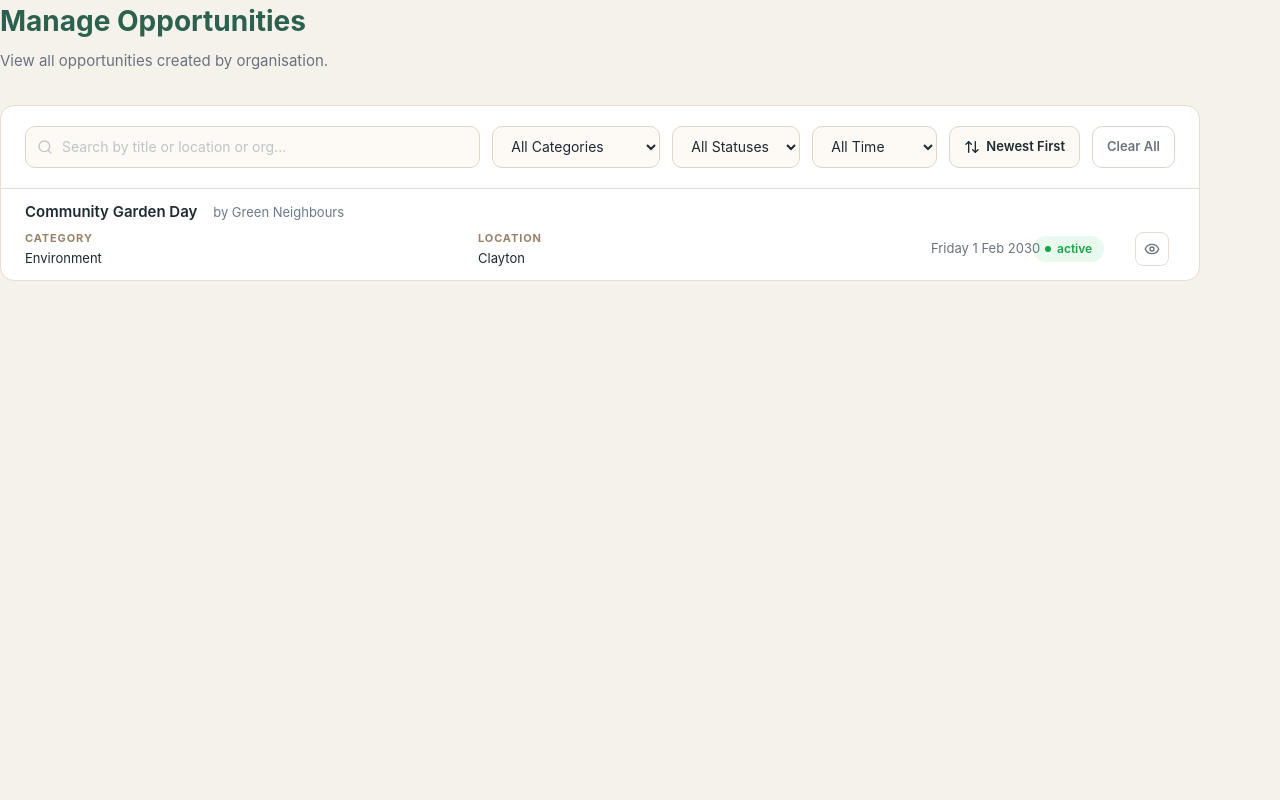
Test case: Admin management UI › lists and previews opportunities without exposing edit actions
Expected: the heading "Community Garden Day by Green Neighbours" is shown, [25, 202, 344, 220]
Click the button named "Preview opportunity" at (1152, 248), box [1135, 232, 1169, 266]
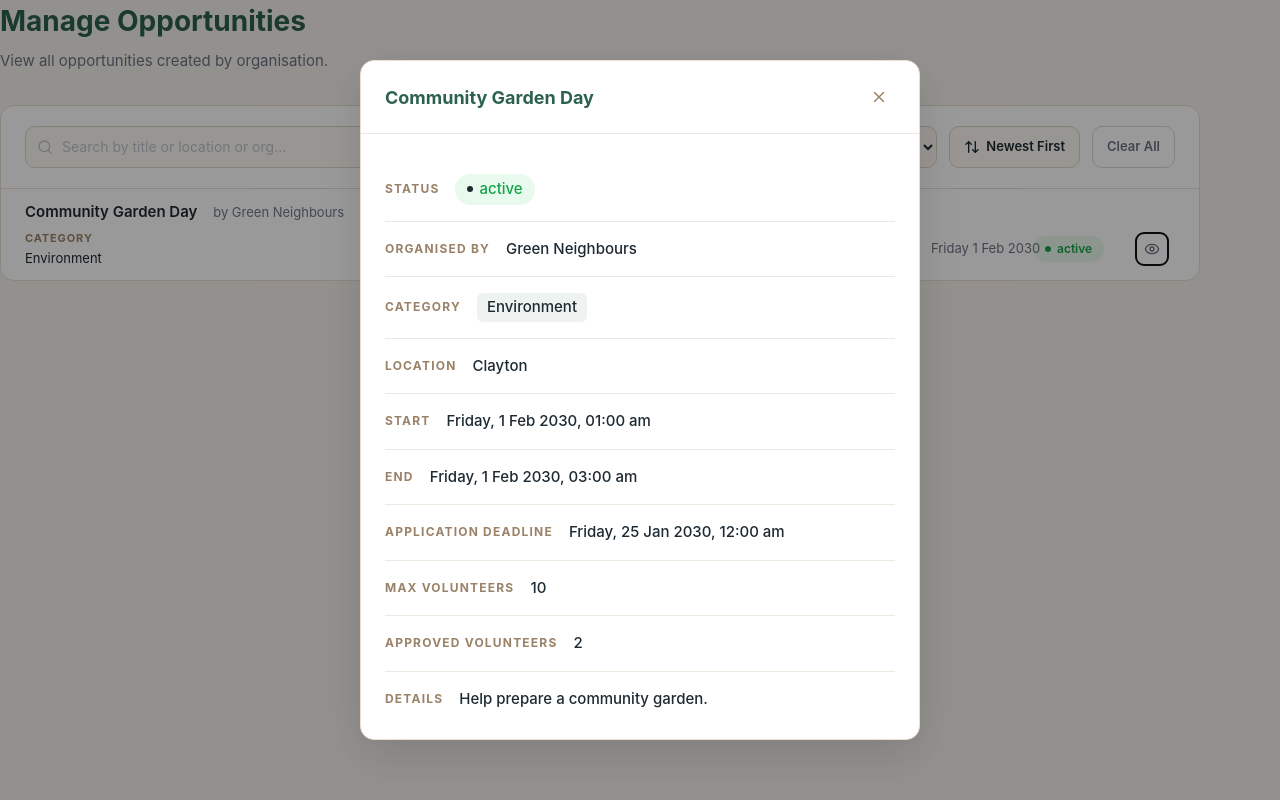
Result: the dialog "Community Garden Day" is shown
Press Escape
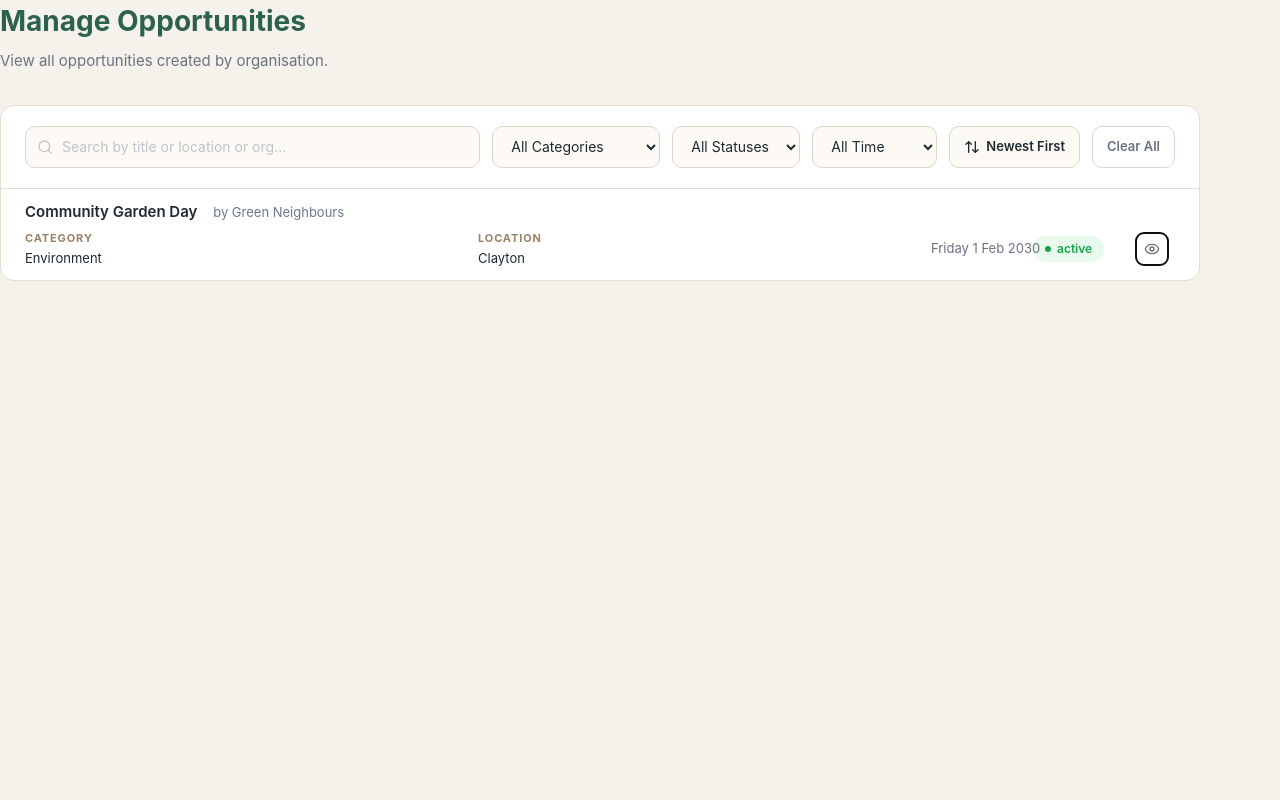
Result: the dialog is gone
